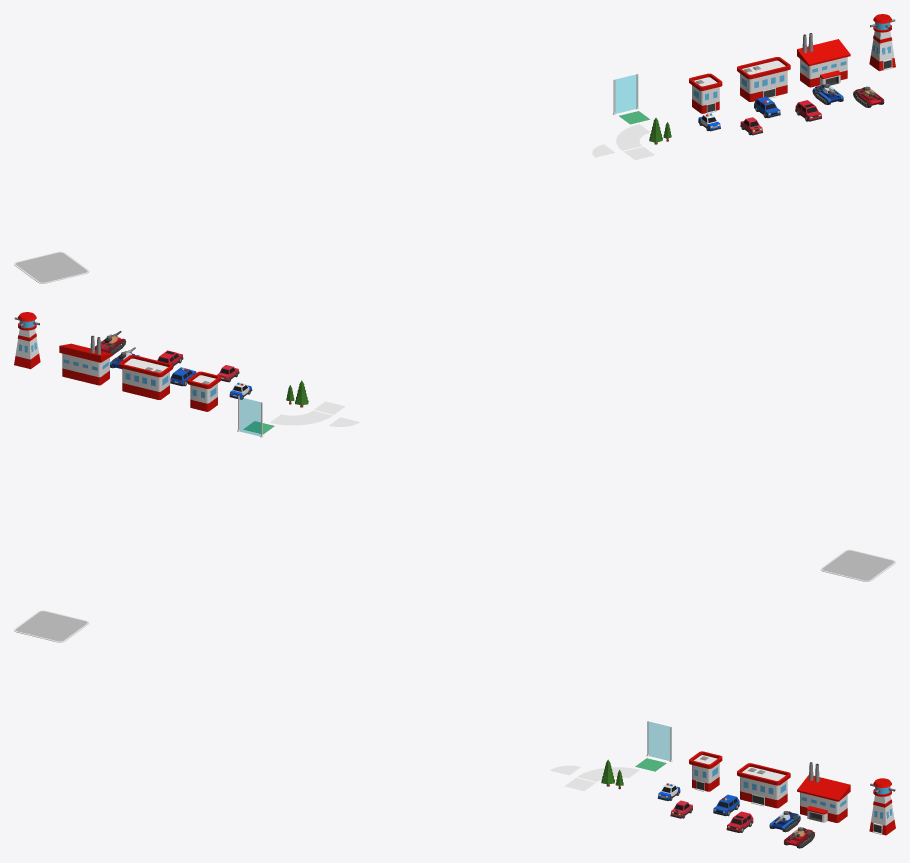
The model's file is Assets.fbx.
The picture shows the model from 3 angles, top to bottom: view 1: azimuth 30°, elevation 25°; view 2: azimuth 150°, elevation 25°; view 3: azimuth 330°, elevation 25°; orthographic projection.
Visible parts, largest first — view 1: Building3, Building2, Base, Building4, Building1, Gate, Road.curve; view 2: Building2, Building3, Base, Building4, Building1, Gate, Road.curve; view 3: Building3, Building2, Base, Building4, Building1, Gate.
Part boxes in pixels (x1=…): Building3: x1=797, y1=33, x2=850, y2=87; Building2: x1=737, y1=57, x2=790, y2=101; Base: x1=14, y1=251, x2=89, y2=283; Building4: x1=869, y1=14, x2=895, y2=71; Building1: x1=689, y1=73, x2=722, y2=113; Gate: x1=613, y1=73, x2=638, y2=114; Road.curve: x1=616, y1=124, x2=650, y2=150; Building2: x1=119, y1=355, x2=172, y2=399; Building3: x1=59, y1=335, x2=112, y2=385; Base: x1=820, y1=549, x2=895, y2=581; Building4: x1=14, y1=312, x2=40, y2=369; Building1: x1=187, y1=371, x2=220, y2=411; Gate: x1=237, y1=396, x2=263, y2=437; Road.curve: x1=270, y1=411, x2=332, y2=425; Building3: x1=797, y1=762, x2=850, y2=822; Building2: x1=737, y1=763, x2=790, y2=808; Base: x1=14, y1=610, x2=89, y2=642; Building4: x1=869, y1=778, x2=895, y2=835; Building1: x1=689, y1=751, x2=722, y2=791; Gate: x1=646, y1=721, x2=672, y2=761.
Size of the model in its own units: 8589 by 457 by 1072.
